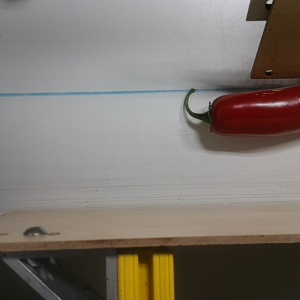Cut Point: (199, 94, 228, 137)
